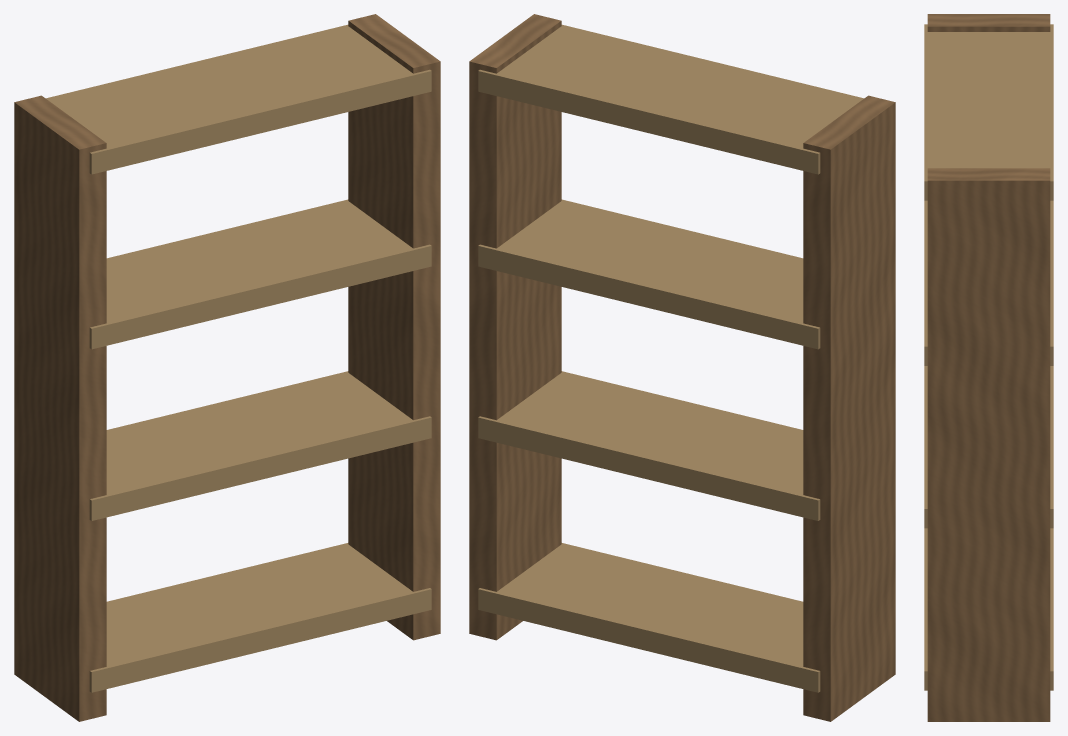
File: shelf.glb
3 renders of one model, left to right at view 1: azimuth 30°, elevation 25°; view 2: azimuth 150°, elevation 25°; view 3: azimuth 270°, elevation 25°, orthographic. The views are drawn at different scales.
Visible parts, largest first — view 1: shelf; view 2: shelf; view 3: shelf.
Boxes of the visible parts, <box> form: shelf: <box>14,14,440,721</box>; shelf: <box>469,14,895,721</box>; shelf: <box>924,14,1053,721</box>.
Size of the model in its own units: 1.19 by 1.8 by 0.39.
Materials: 2 (1 with a texture image).
